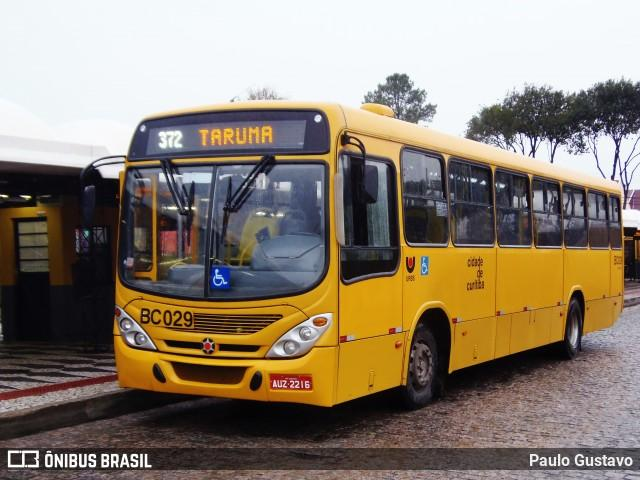TARUMA: (195, 123, 276, 149)
